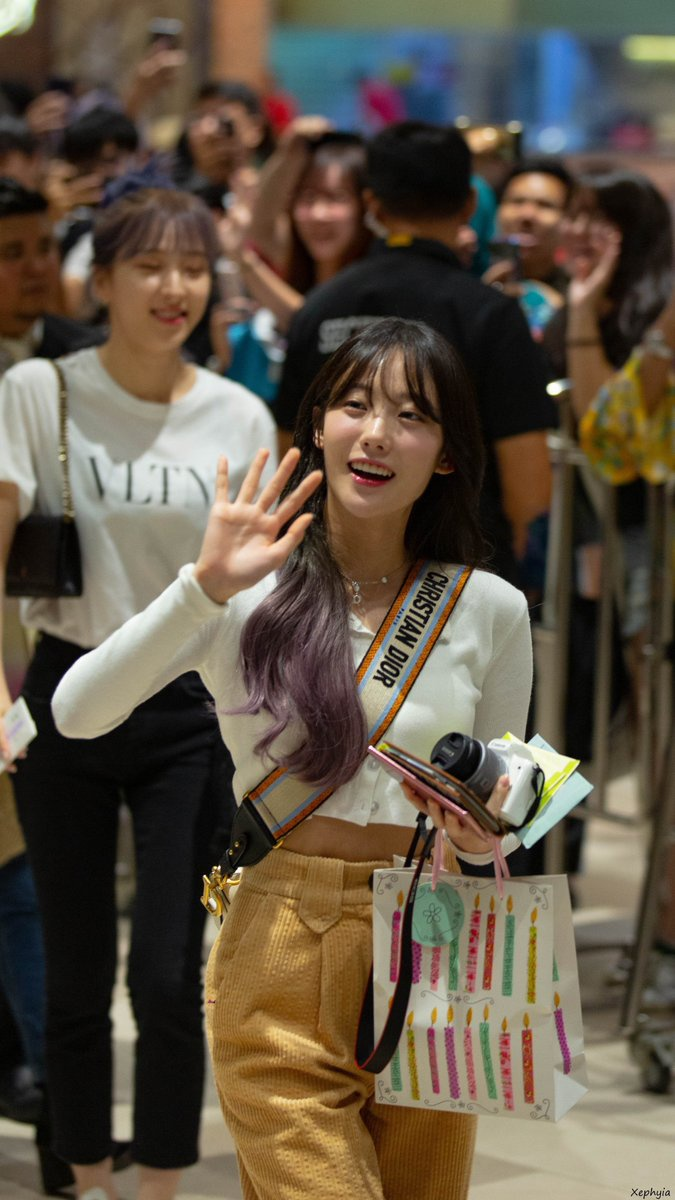people: (207, 333, 532, 1200), (9, 195, 274, 1199)
